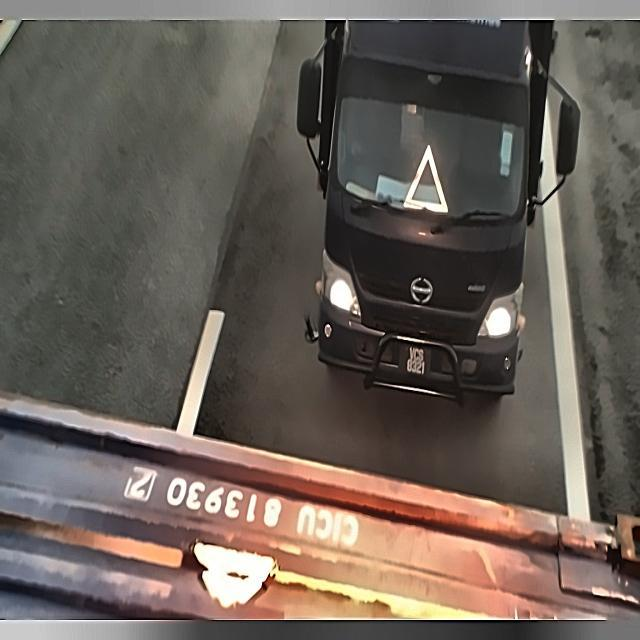car: (394, 338, 436, 388)
